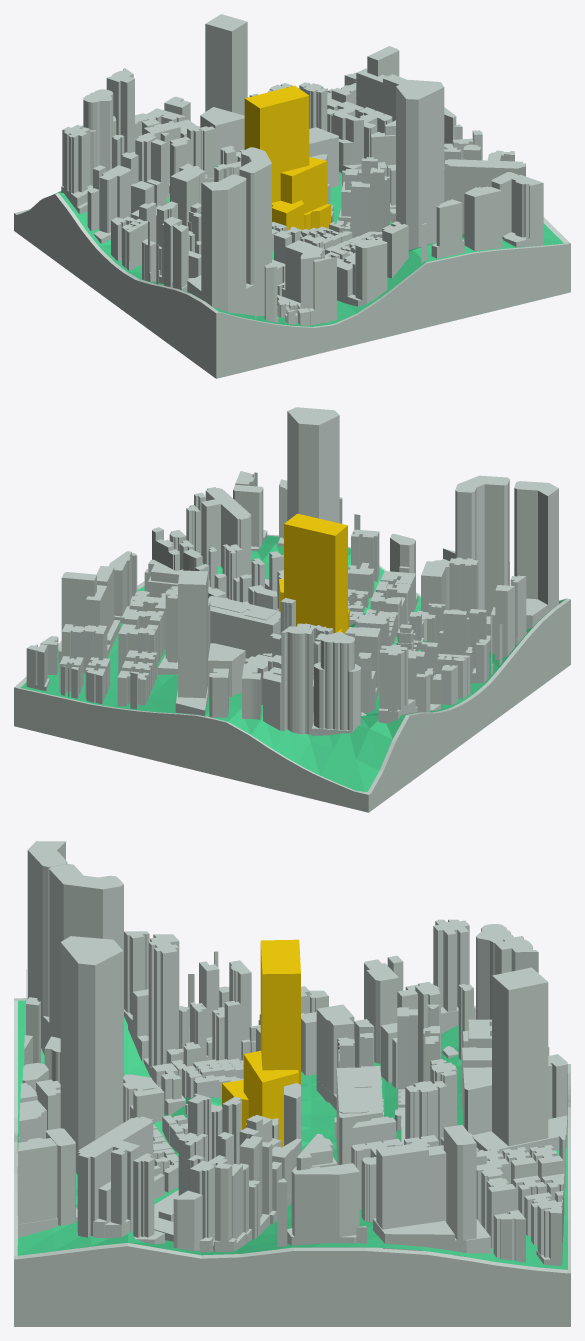
The model's file is newmodel1.glb.
The picture shows the model from 3 angles, top to bottom: view 1: azimuth 30°, elevation 25°; view 2: azimuth 150°, elevation 25°; view 3: azimuth 270°, elevation 25°; orthographic projection. The views are drawn at different scales.
Parts seen in each view (by area): view 1: Model, Group680, Group519, Group304, Group395, Group43, Group215, Group679, Group357, Group154, Group224, Group25 (+44 smaller); view 2: Model, Group679, Group680, Group395, Group519, Group215, Group304, Group43, Group637, Group357, Group172, Group82 (+44 smaller); view 3: Group680, Group519, Group679, Model, Group43, Group215, Group395, Group45, Group357, Group196, Group304, Group249 (+65 smaller).
Boxes of the visible parts, x1,y1,x2,y2 form: Model: (14, 208, 570, 378); Group680: (15, 193, 568, 372); Group519: (396, 79, 444, 249); Group304: (201, 174, 246, 314); Group395: (244, 85, 309, 202); Group43: (205, 14, 247, 115); Group215: (239, 147, 271, 315); Group679: (24, 165, 563, 326); Group357: (444, 154, 525, 234); Group154: (464, 186, 502, 250); Group224: (280, 157, 327, 213); Group25: (285, 240, 324, 308); Model: (14, 534, 570, 812); Group679: (20, 535, 564, 791); Group680: (15, 581, 569, 795); Group395: (284, 513, 347, 633); Group519: (287, 407, 339, 523); Group215: (455, 475, 509, 616); Group304: (514, 481, 558, 612); Group43: (178, 570, 208, 698); Group637: (281, 623, 313, 734); Group357: (201, 487, 251, 575); Group172: (314, 662, 361, 730); Group82: (208, 596, 280, 658); Group680: (17, 998, 567, 1320); Group519: (60, 936, 123, 1174); Group679: (17, 1000, 567, 1269); Model: (14, 998, 570, 1326); Group43: (492, 967, 548, 1146); Group215: (49, 864, 123, 1076); Group395: (260, 939, 300, 1084); Group45: (292, 1163, 359, 1247); Group357: (77, 1116, 153, 1248); Group196: (376, 1142, 428, 1229); Group304: (27, 841, 67, 1049); Group249: (148, 936, 178, 1067).
Size of the model in its own units: 32.52 by 18.69 by 32.11.
